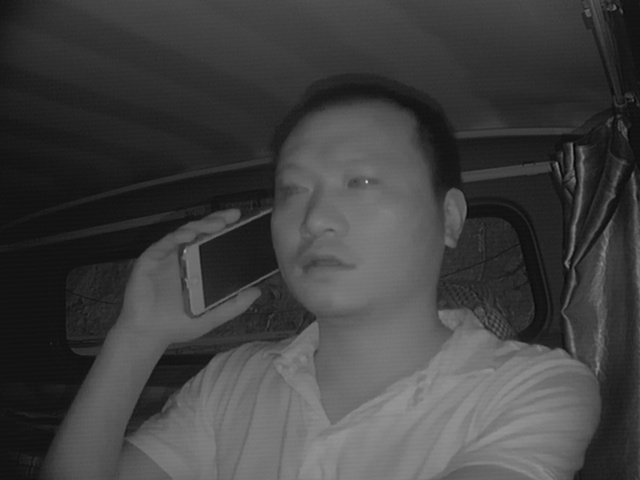hand: (133, 207, 258, 342)
